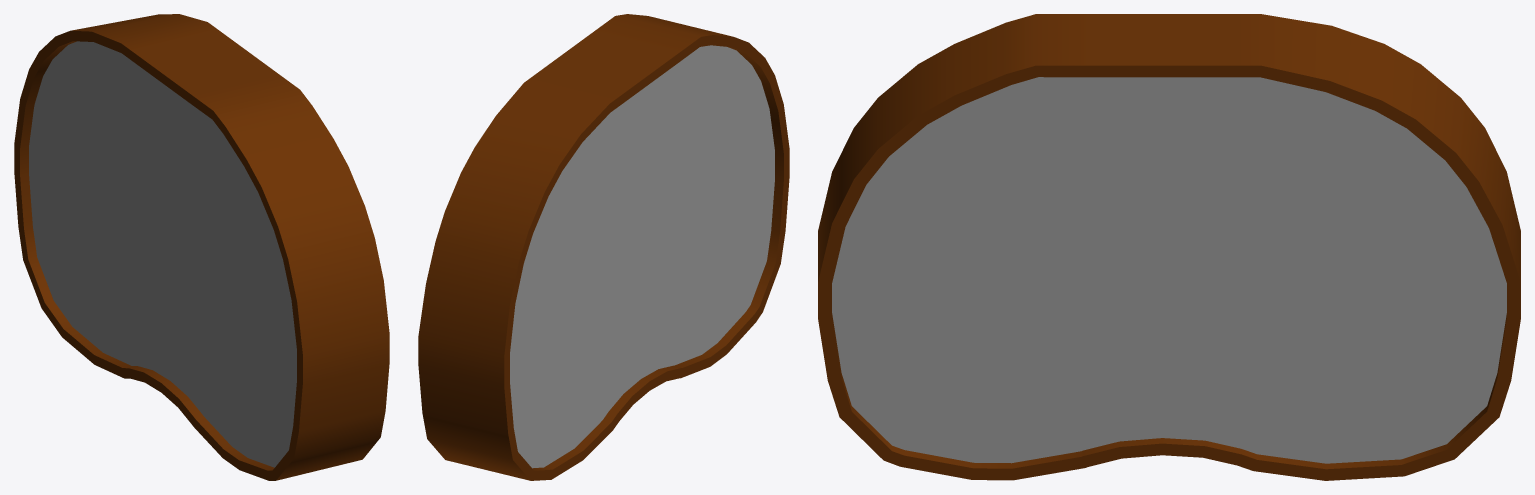
File: Chlebek_4.fbx
3 renders of one model, left to right at view 1: azimuth 30°, elevation 25°; view 2: azimuth 150°, elevation 25°; view 3: azimuth 270°, elevation 25°, orthographic. The views are drawn at different scales.
Parts seen in each view (by area): view 1: chlebek_4; view 2: chlebek_4; view 3: chlebek_4.
Boxes of the visible parts, x1,y1,x2,y2 form: chlebek_4: (14,14,389,480); chlebek_4: (418,14,789,480); chlebek_4: (818,14,1520,480).
Size of the model in its own units: 39.28 by 147 by 226.
